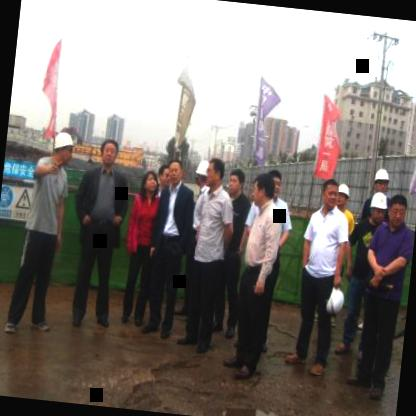head: (248, 170, 276, 212), (384, 190, 410, 230), (96, 134, 121, 168), (204, 154, 226, 192), (318, 176, 341, 208), (226, 163, 246, 199), (266, 166, 286, 202), (166, 157, 184, 191), (140, 170, 158, 196), (155, 162, 170, 190)
helmet: (48, 125, 82, 169), (366, 188, 390, 226), (372, 162, 392, 194), (192, 156, 210, 191), (336, 179, 352, 212)
